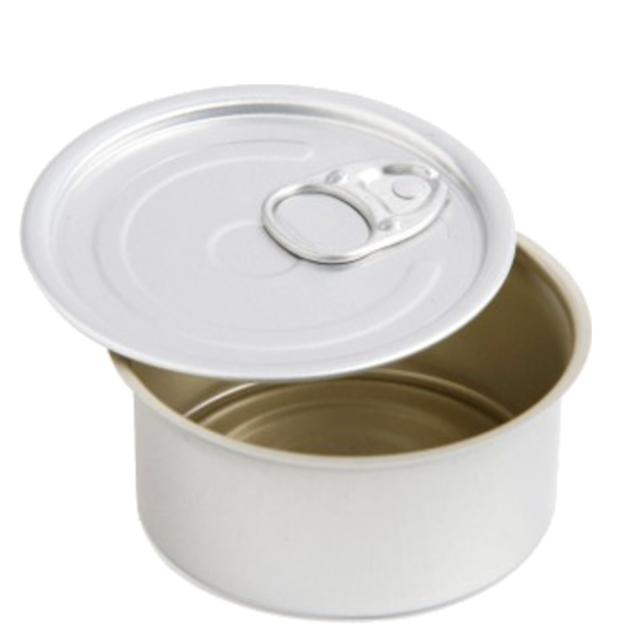can: (10, 36, 610, 630)
